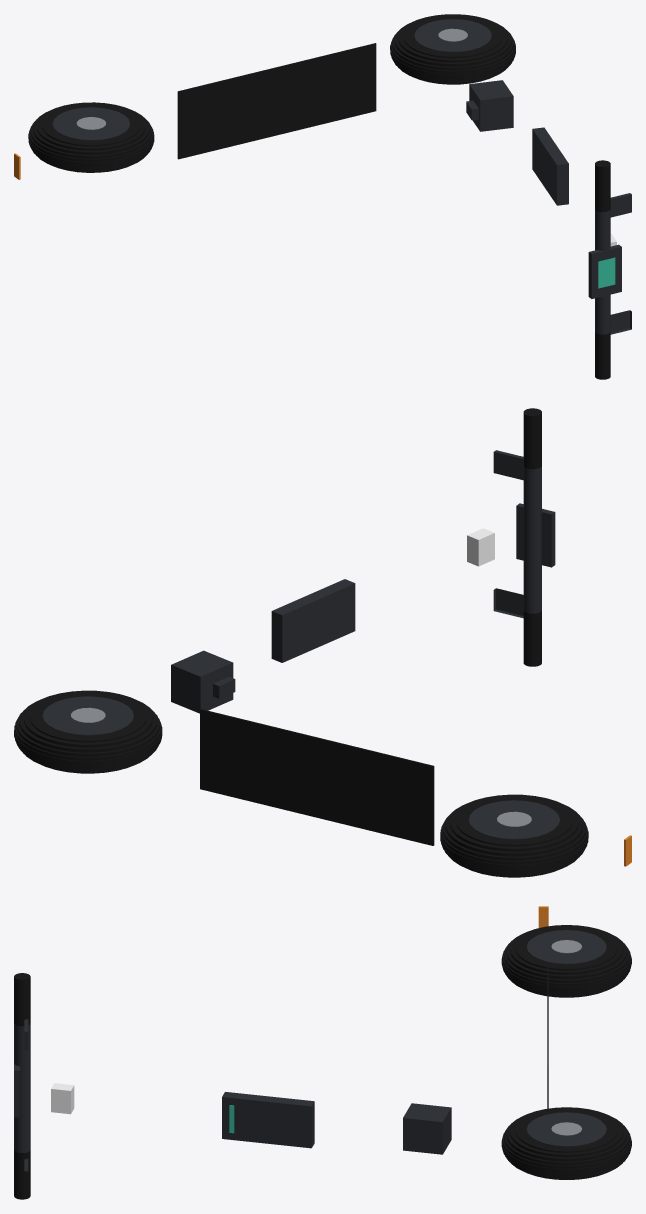
File: g30_body.obj
The picture shows the model from 3 angles, top to bottom: view 1: azimuth 30°, elevation 25°; view 2: azimuth 150°, elevation 25°; view 3: azimuth 270°, elevation 25°; orthographic projection. The views are drawn at different scales.
Bounding box in the file's own units: 1.17 × 0.472 × 1.2.
